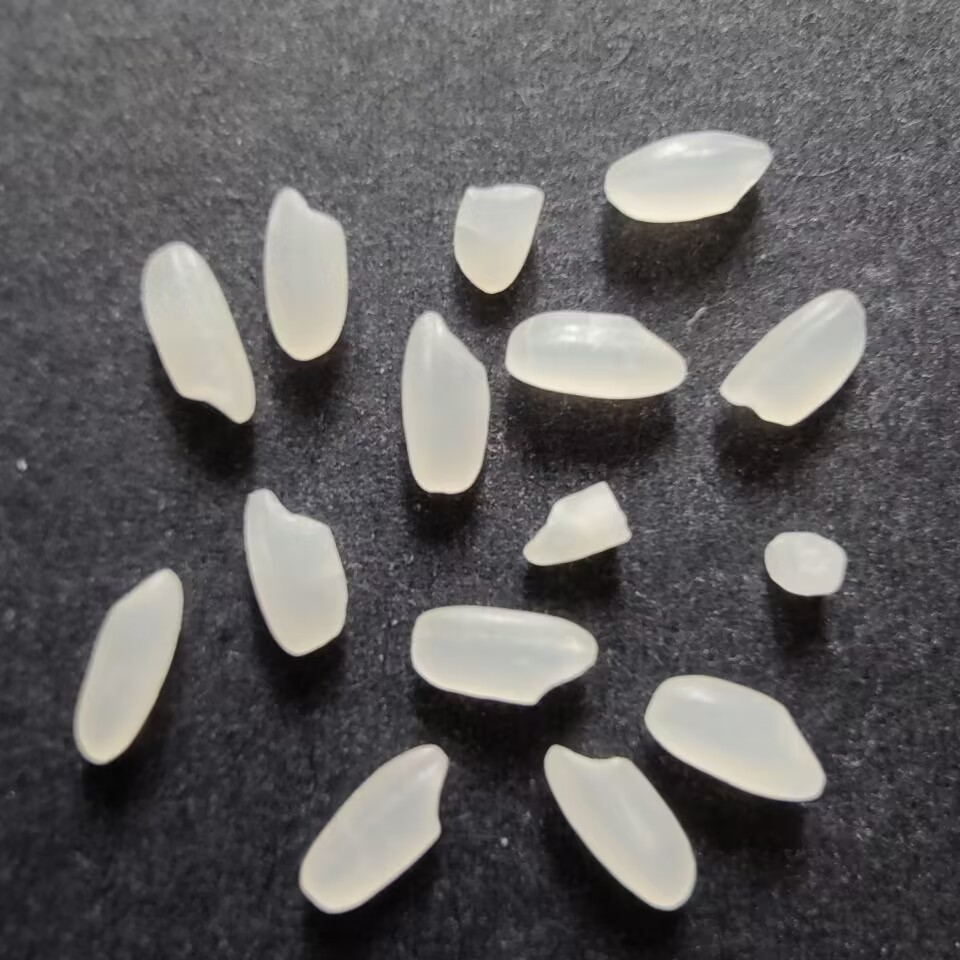broken: (449, 175, 550, 299), (516, 474, 633, 570), (759, 526, 852, 601)
rice: (538, 740, 702, 913), (294, 742, 451, 918), (637, 671, 828, 808), (73, 562, 186, 770), (136, 236, 257, 429), (716, 284, 870, 431), (407, 606, 602, 712), (240, 487, 351, 661), (397, 305, 493, 502), (497, 308, 687, 403), (260, 183, 353, 363), (603, 130, 775, 225)
